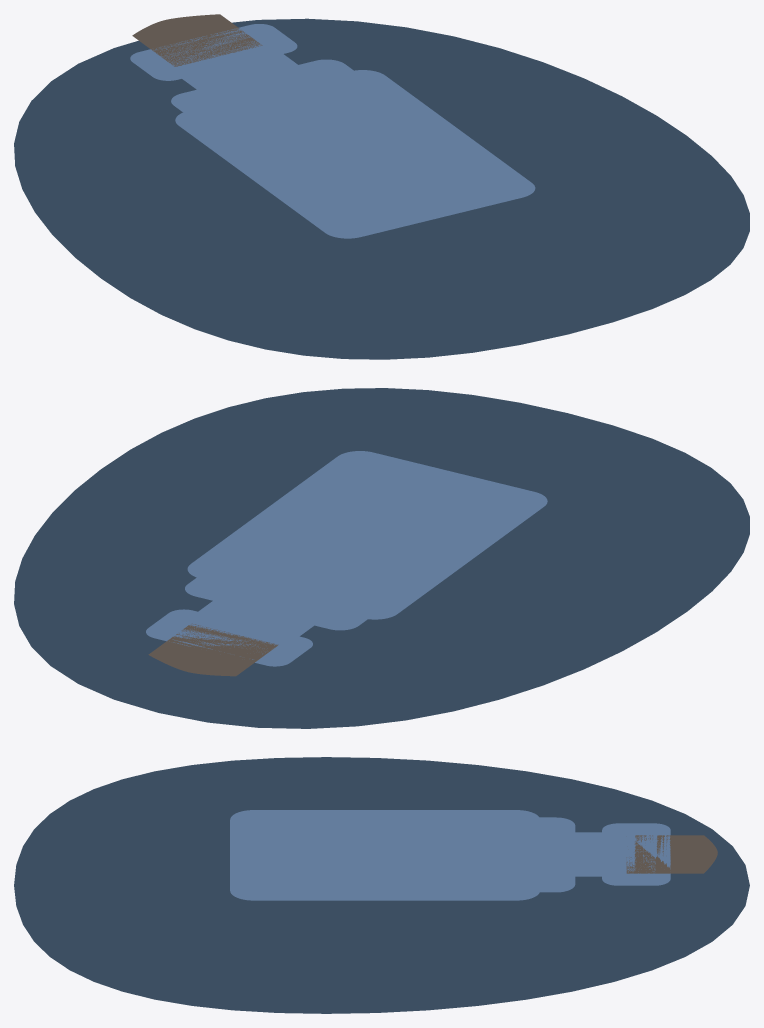
File: botoru.fbx
3 views of the same model, one above another, from view 1: azimuth 30°, elevation 25°; view 2: azimuth 150°, elevation 25°; view 3: azimuth 270°, elevation 25° (orthographic). The views are drawn at different scales.
Visible parts, largest first — view 1: Curve, Curve.002, Curve.003, Curve.004, Curve.005, Curve.001; view 2: Curve, Curve.002, Curve.003, Curve.004, Curve.001, Curve.005; view 3: Curve, Curve.002, Curve.003, Curve.005, Curve.004, Curve.001.
Boxes of the visible parts, x1,y1,x2,y2 form: Curve: (14, 18, 749, 359); Curve.002: (175, 70, 535, 238); Curve.003: (171, 59, 477, 204); Curve.004: (178, 51, 374, 158); Curve.005: (130, 24, 297, 80); Curve.001: (132, 14, 262, 66); Curve: (14, 388, 749, 728); Curve.002: (187, 451, 547, 619); Curve.003: (185, 485, 491, 630); Curve.004: (194, 531, 408, 639); Curve.001: (148, 623, 278, 676); Curve.005: (146, 609, 312, 666); Curve: (14, 757, 749, 1013); Curve.002: (230, 810, 540, 900); Curve.003: (304, 817, 575, 892); Curve.005: (602, 823, 670, 885); Curve.004: (407, 832, 608, 876); Curve.001: (626, 835, 717, 873).
Bounding box in the file's own units: 2 × 0.1 × 2.43.
